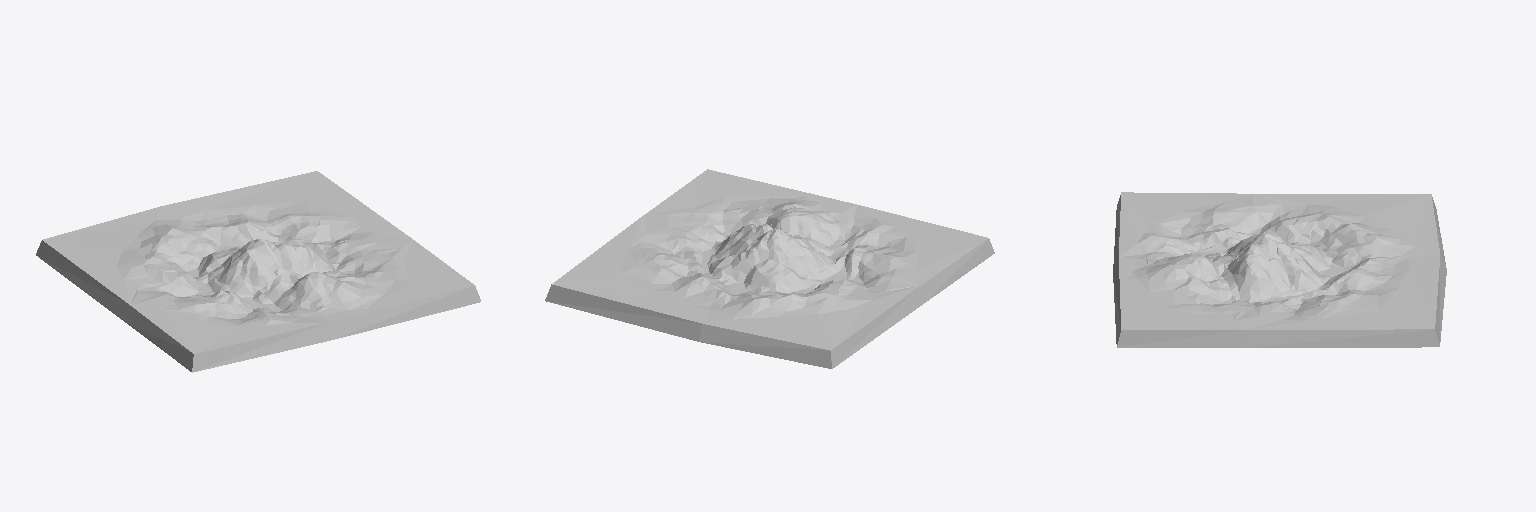
The model's file is Meadow_Bumpy_1.obj.
The picture shows the model from 3 angles: view 1: azimuth 30°, elevation 25°; view 2: azimuth 150°, elevation 25°; view 3: azimuth 270°, elevation 25°; orthographic projection.
Parts seen in each view (by area): view 1: PP_Lake_Ground_04.002; view 2: PP_Lake_Ground_04.002; view 3: PP_Lake_Ground_04.002.
Part boxes in pixels (bbox=[...]): PP_Lake_Ground_04.002: bbox=[36, 171, 480, 372]; PP_Lake_Ground_04.002: bbox=[545, 169, 994, 368]; PP_Lake_Ground_04.002: bbox=[1113, 192, 1446, 347].
Bounding box in the file's own units: 24.77 × 3.51 × 24.62.